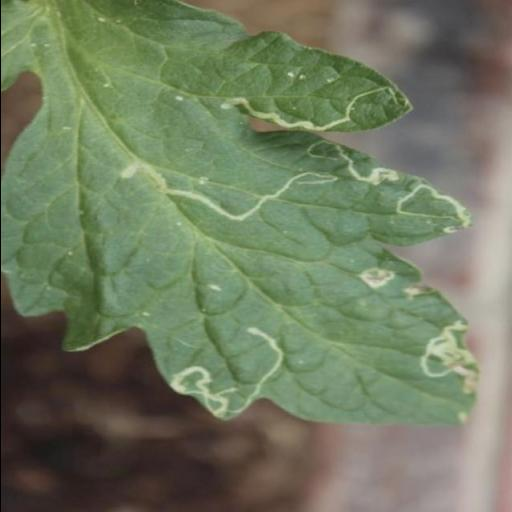disease_tomato: (0, 0, 480, 425)
